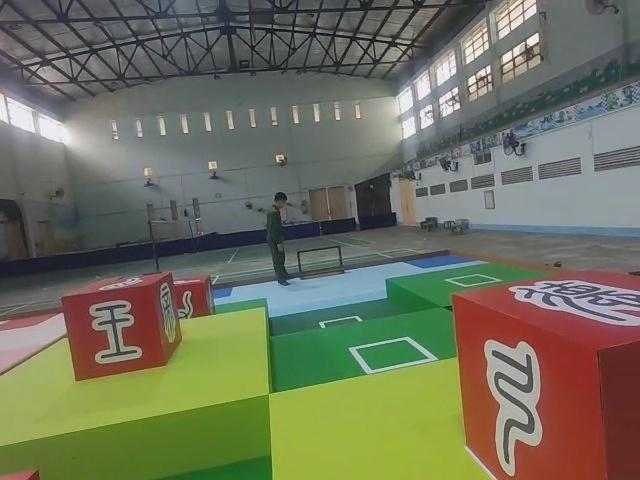R2 Fake: (454, 267, 640, 480), (63, 271, 180, 385)
R2 Real: (168, 273, 216, 321)
